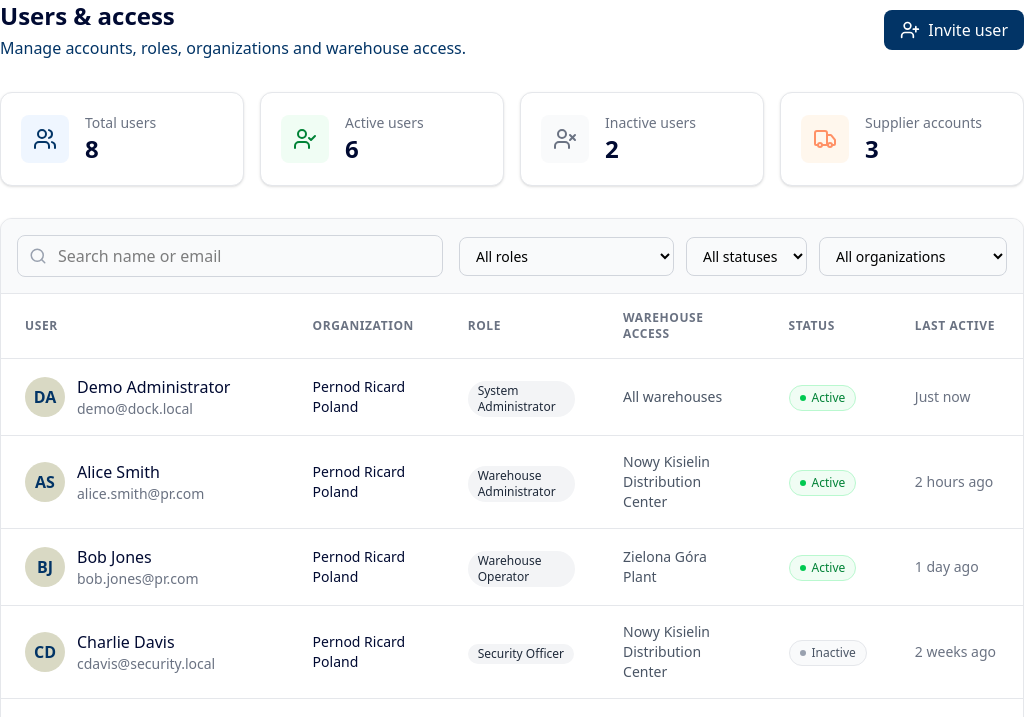
UsersAccessPage › 7. organization filter works
The image size is (1024, 717).
Select "Northstar Packaging" in the dropdown named "Filter by organization" at (913, 256), box [819,236,1007,276]
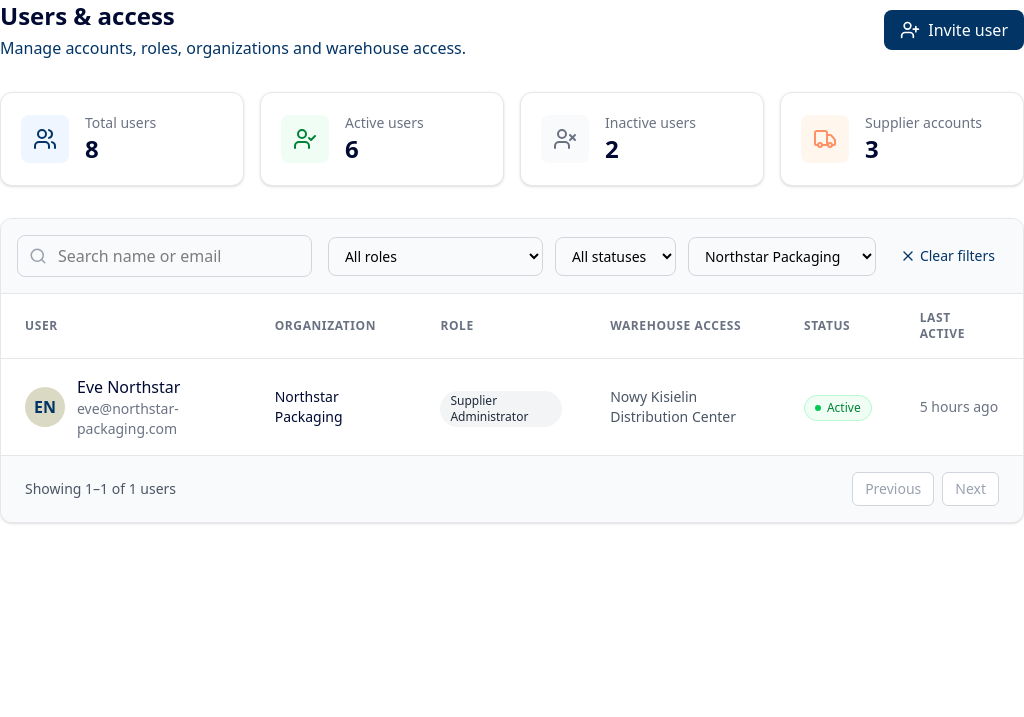
Expected: the text "Eve Northstar" is shown, [77,376,180,398]
Expected: the text "Alice Smith" is gone
